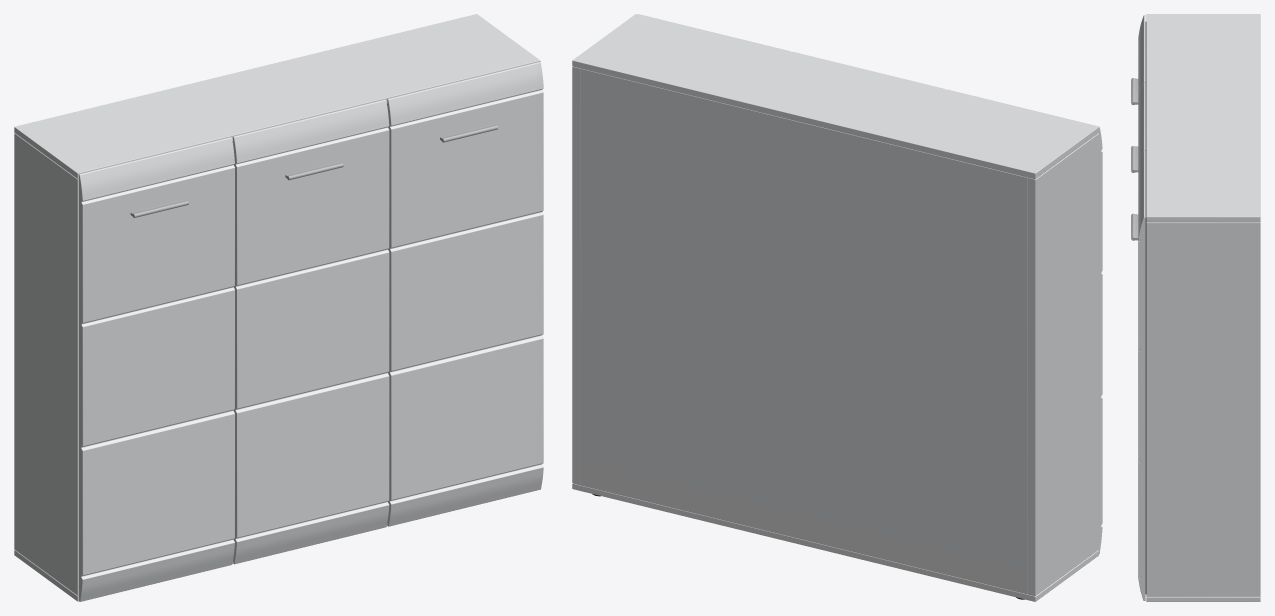
File: abo-B01HEQRIZ2.glb
3 views of the same model, side by side, from view 1: azimuth 30°, elevation 25°; view 2: azimuth 150°, elevation 25°; view 3: azimuth 270°, elevation 25° (orthographic). The views are drawn at different scales.
Bounding box in the file's own units: 1.34 × 1.2 × 0.36.
Materials: 1 (1 with a texture image).
